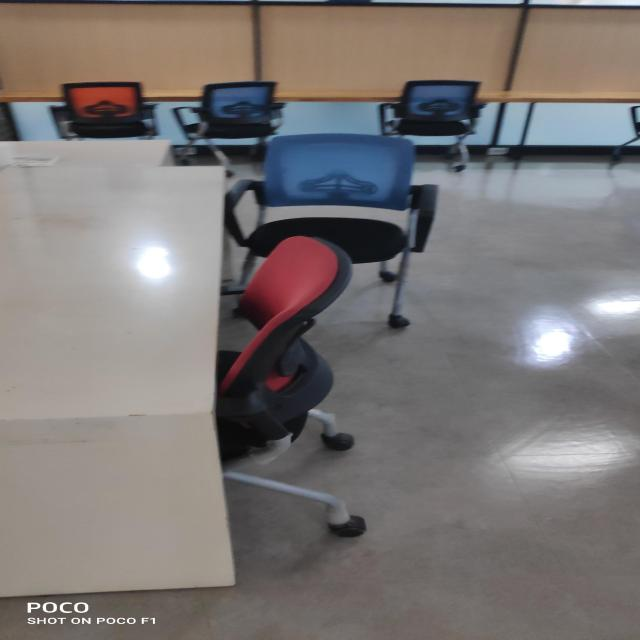Chair: (199, 237, 410, 557)
Table: (0, 135, 245, 640)
